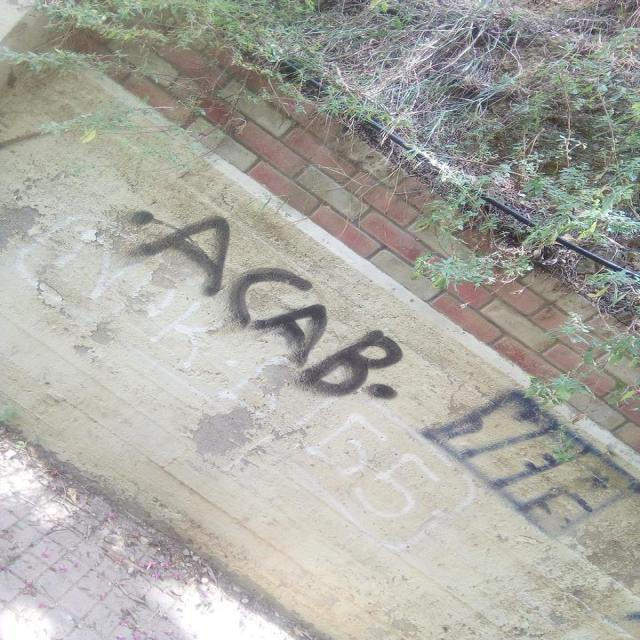nonspitting: (132, 208, 398, 404), (426, 388, 640, 525)
